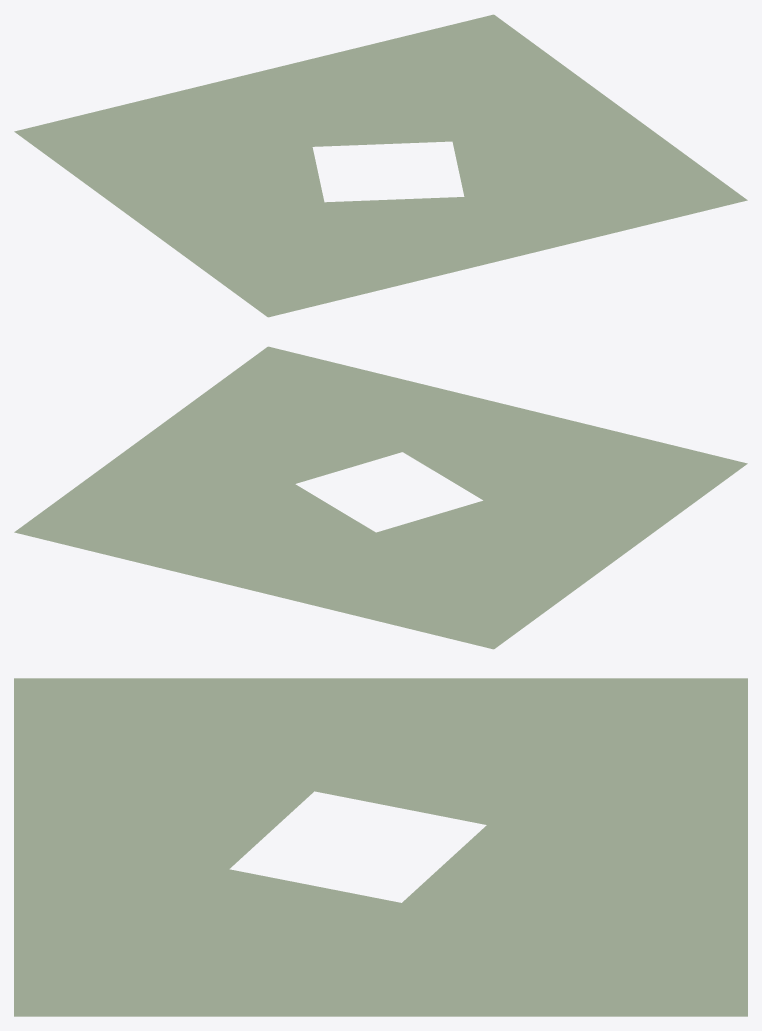
File: SM_MPRR_Background.fbx
3 renders of one model, top to bottom at view 1: azimuth 30°, elevation 25°; view 2: azimuth 150°, elevation 25°; view 3: azimuth 270°, elevation 25°, orthographic. The views are drawn at different scales.
Parts seen in each view (by area): view 1: SM_MPRR_Background; view 2: SM_MPRR_Background; view 3: SM_MPRR_Background.
Part boxes in pixels (box(x1,y1,x2,y2)): SM_MPRR_Background: box(14, 14, 747, 317); SM_MPRR_Background: box(14, 346, 747, 649); SM_MPRR_Background: box(14, 678, 747, 1016).
Size of the model in its own units: 480000 by 440000 by 0.
